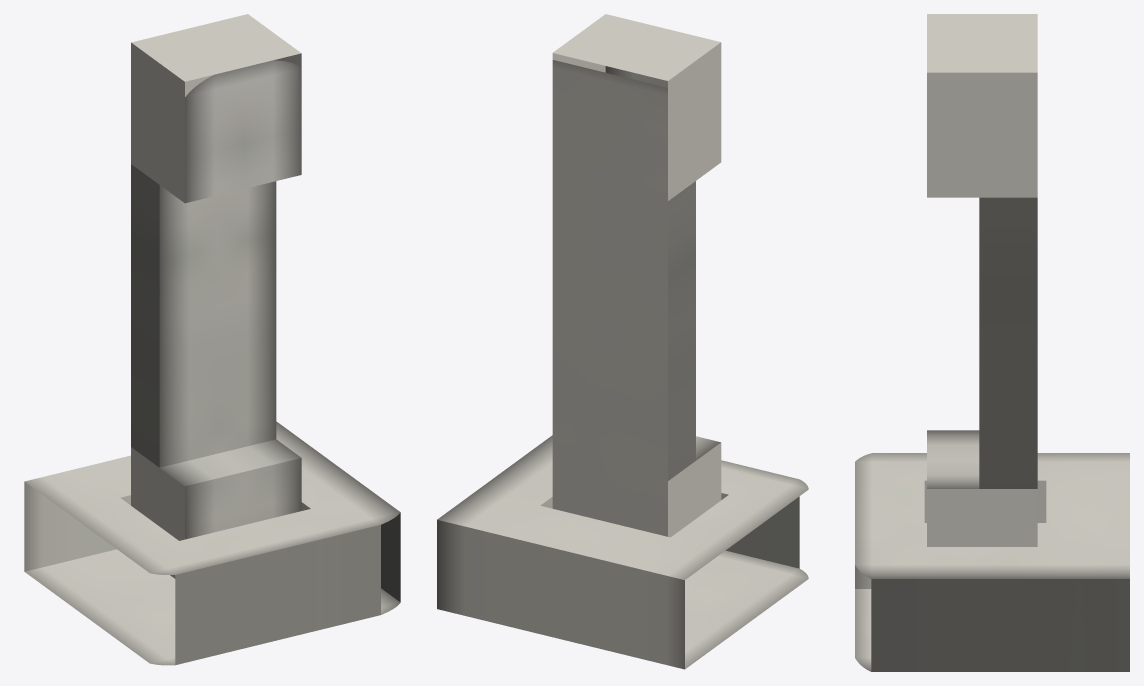
Rendered from SM_EC_Telephone_Static_CounterTop_0.fbx.
The picture shows the model from 3 angles, left to right: view 1: azimuth 30°, elevation 25°; view 2: azimuth 150°, elevation 25°; view 3: azimuth 270°, elevation 25°; orthographic projection. The views are drawn at different scales.
Parts seen in each view (by area): view 1: SM_EC_Telephone_Static_CounterTop_0; view 2: SM_EC_Telephone_Static_CounterTop_0; view 3: SM_EC_Telephone_Static_CounterTop_0.
Boxes of the visible parts, x1,y1,x2,y2 form: SM_EC_Telephone_Static_CounterTop_0: (24, 14, 400, 665); SM_EC_Telephone_Static_CounterTop_0: (437, 14, 808, 669); SM_EC_Telephone_Static_CounterTop_0: (855, 14, 1129, 671).
Bounding box in the file's own units: 0.2795 × 0.2479 × 0.5605.
